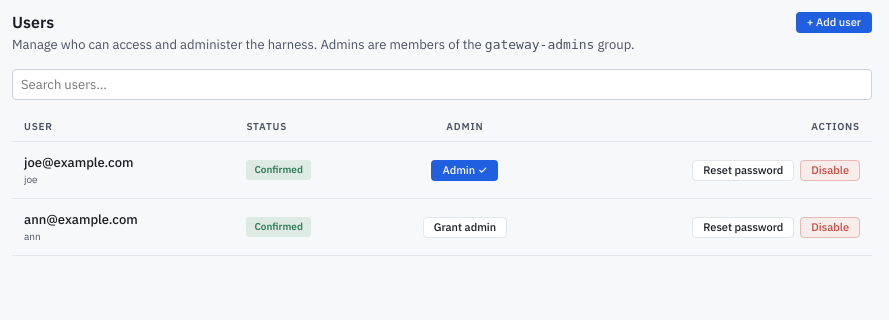
Test: UsersPanel › resets a password (POST /reset-password) and shows a notice
The image size is (889, 320).
Expected: the text "joe@example.com" is shown, [24,154,133,171]
Click the button "Reset password" in the row of "joe@example.com": [743, 170] box [692,160,794,180]
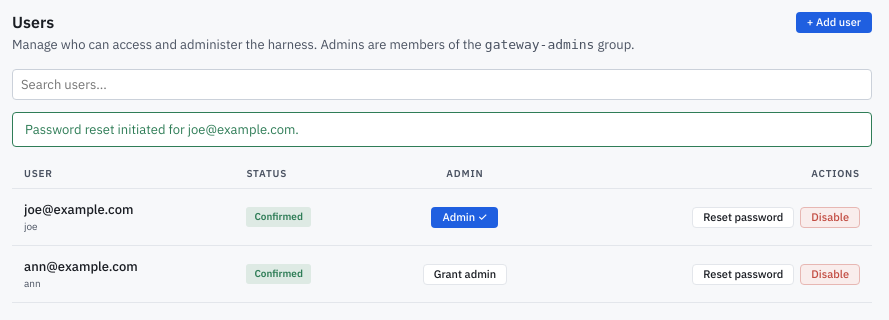
Expected: the text "Password reset initiated for joe@example.com." is shown, [12,112,872,147]
